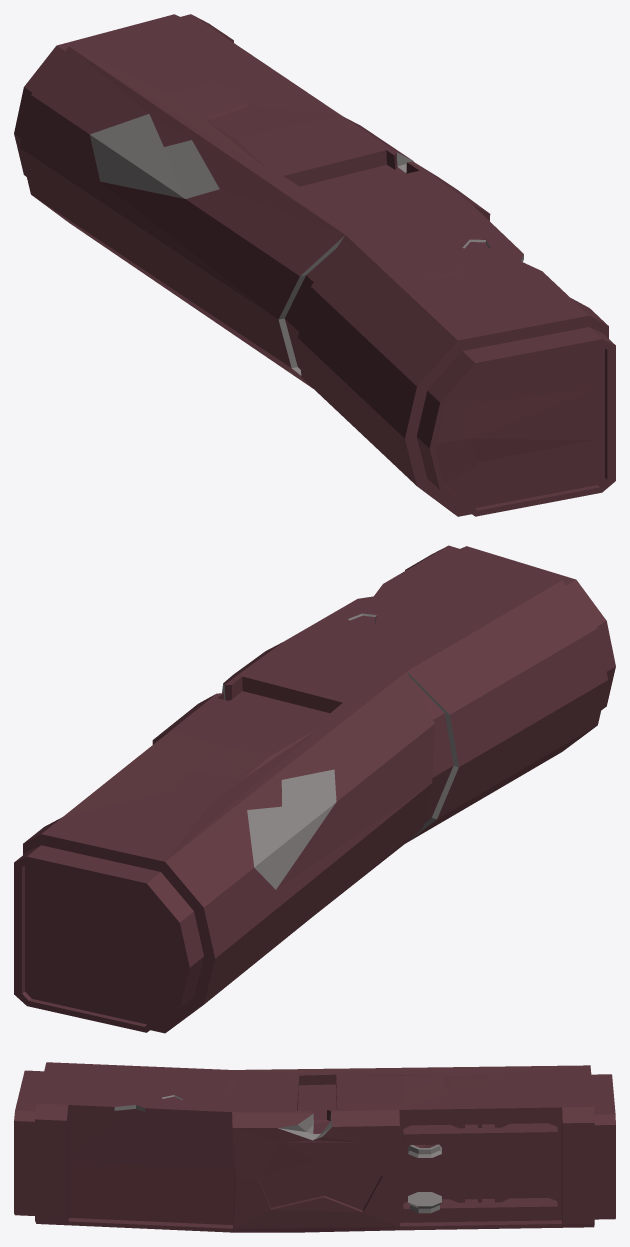
The model's file is train-speed-wagon-apocalypse-c.fbx.
The picture shows the model from 3 angles, top to bottom: view 1: azimuth 30°, elevation 25°; view 2: azimuth 150°, elevation 25°; view 3: azimuth 270°, elevation 25°; orthographic projection. The views are drawn at different scales.
Visible parts, largest first — view 1: train-speed-wagon-apocalypse-c; view 2: train-speed-wagon-apocalypse-c; view 3: train-speed-wagon-apocalypse-c.
Boxes of the visible parts, x1=… form: train-speed-wagon-apocalypse-c: x1=14, y1=14, x2=615, y2=516; train-speed-wagon-apocalypse-c: x1=14, y1=545, x2=615, y2=1033; train-speed-wagon-apocalypse-c: x1=14, y1=1062, x2=615, y2=1232.
Bounding box in the file's own units: 4.23 × 3.1 × 14.05.
